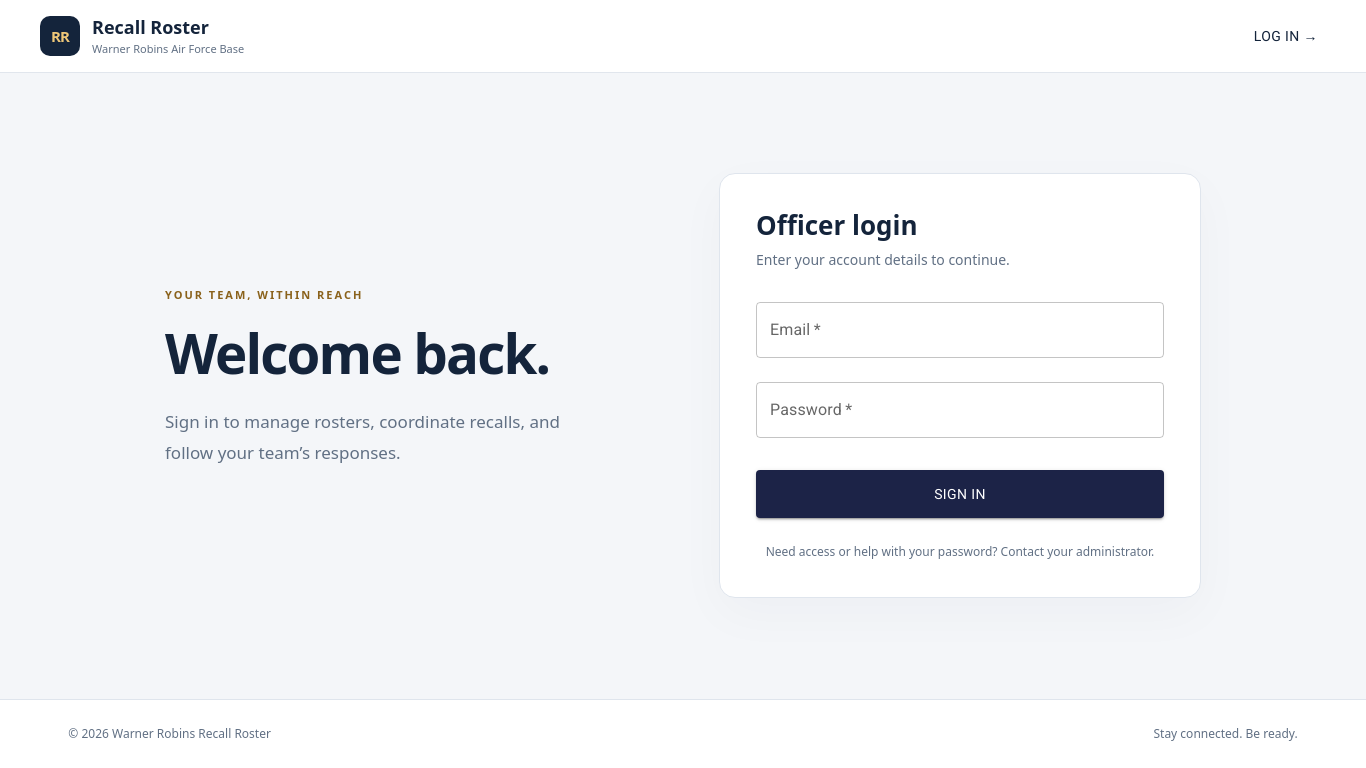
Test: login reports rejected credentials
The width and height of the screenshot is (1366, 768).
Type "officer@example.com" into the field labelled "Email *" at point(960, 330), box [756, 302, 1164, 358]
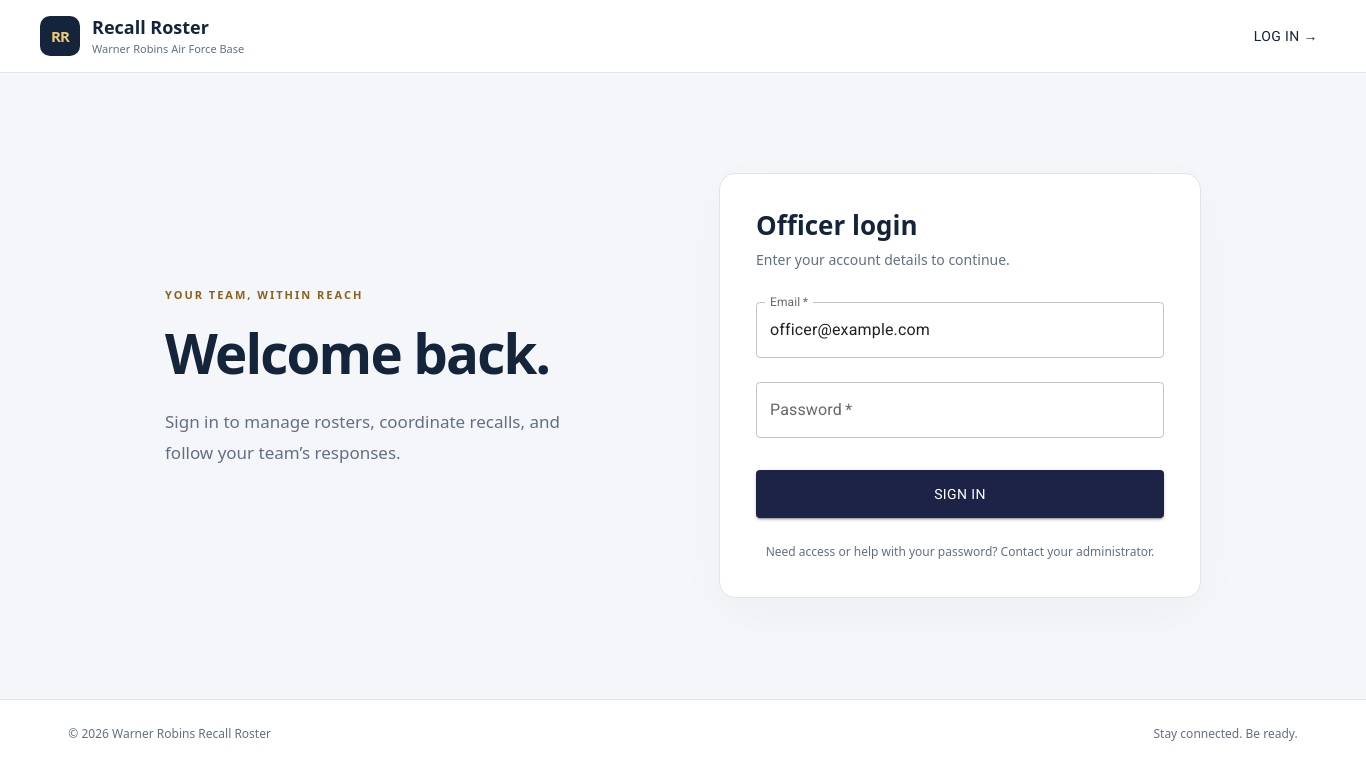
Type "invalid-password" into the password field labelled "Password *" at point(960, 410), box [756, 382, 1164, 438]
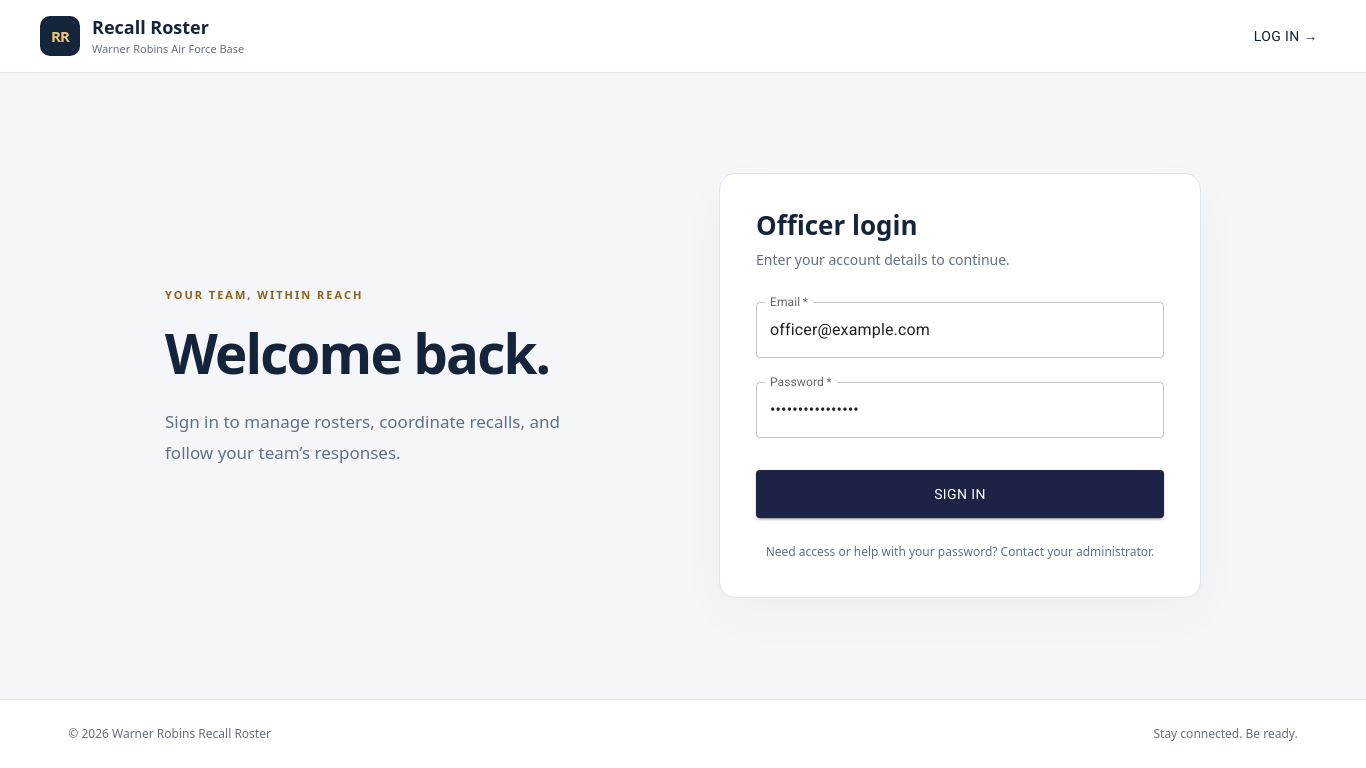
Click the button "Sign in" at point(960, 494), box [756, 470, 1164, 518]
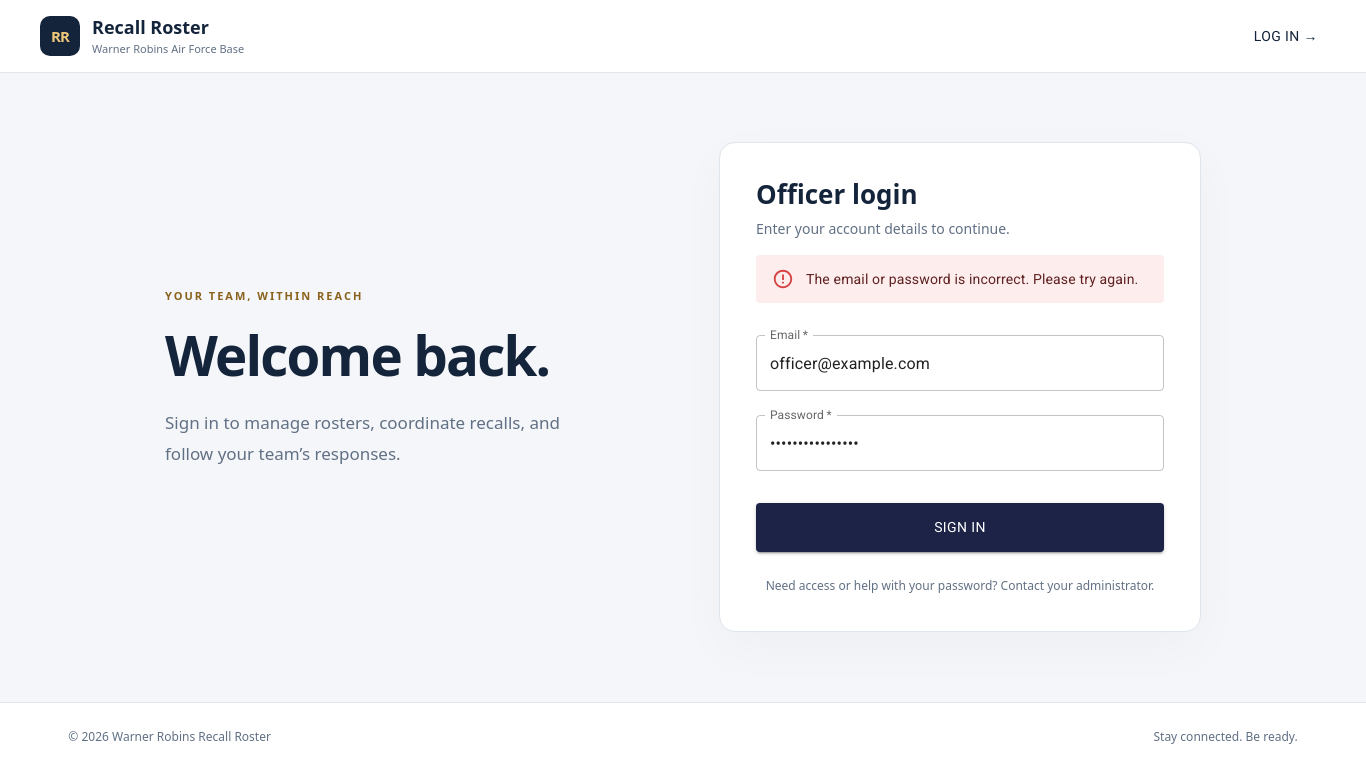
Expected: the button "Sign in" is enabled, [756, 503, 1164, 552]
Expected: the message shows "The email or password is incorrect", [806, 271, 1138, 287]
